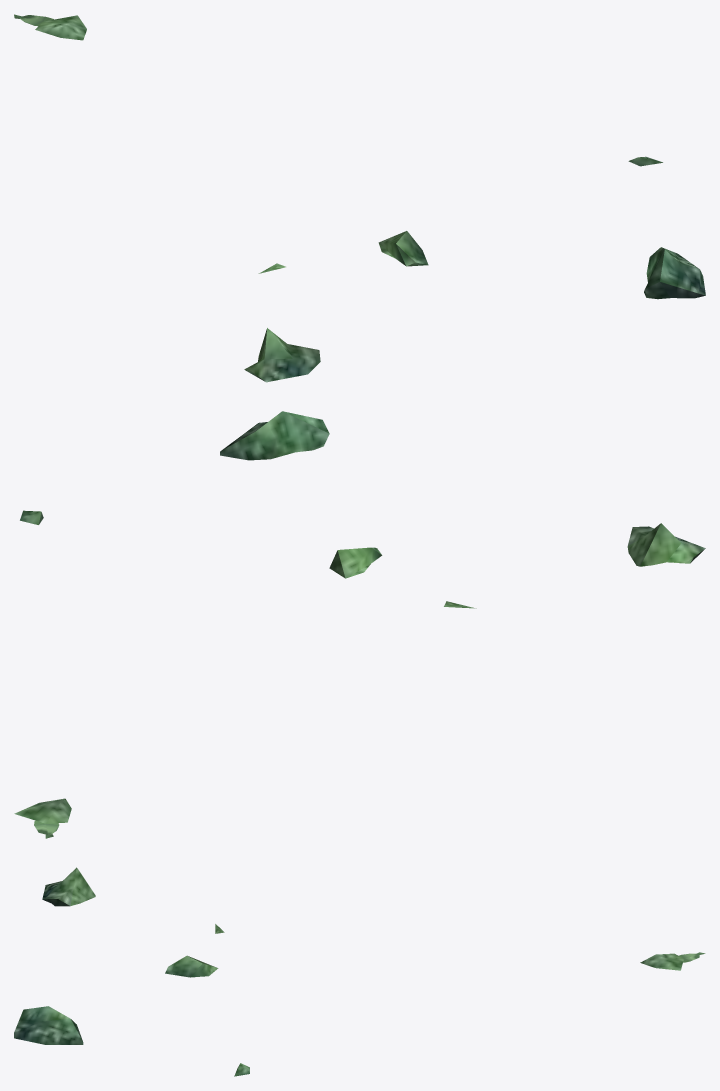
The picture shows the model from 3 angles, top to bottom: view 1: azimuth 30°, elevation 25°; view 2: azimuth 150°, elevation 25°; view 3: azimuth 270°, elevation 25°; orthographic projection. The views are drawn at different scales.
Visible parts, largest first — view 1: 30436272704361736636_0; view 2: 30436272704361736636_0; view 3: 30436272704361736636_0.
Part boxes in pixels (box(x1,y1,x2,y2)): 30436272704361736636_0: box(14, 14, 705, 382); 30436272704361736636_0: box(14, 411, 705, 838); 30436272704361736636_0: box(14, 867, 705, 1076).
Size of the model in its own units: 22.39 by 1.39 by 33.94.
1 material, 1 textured.
